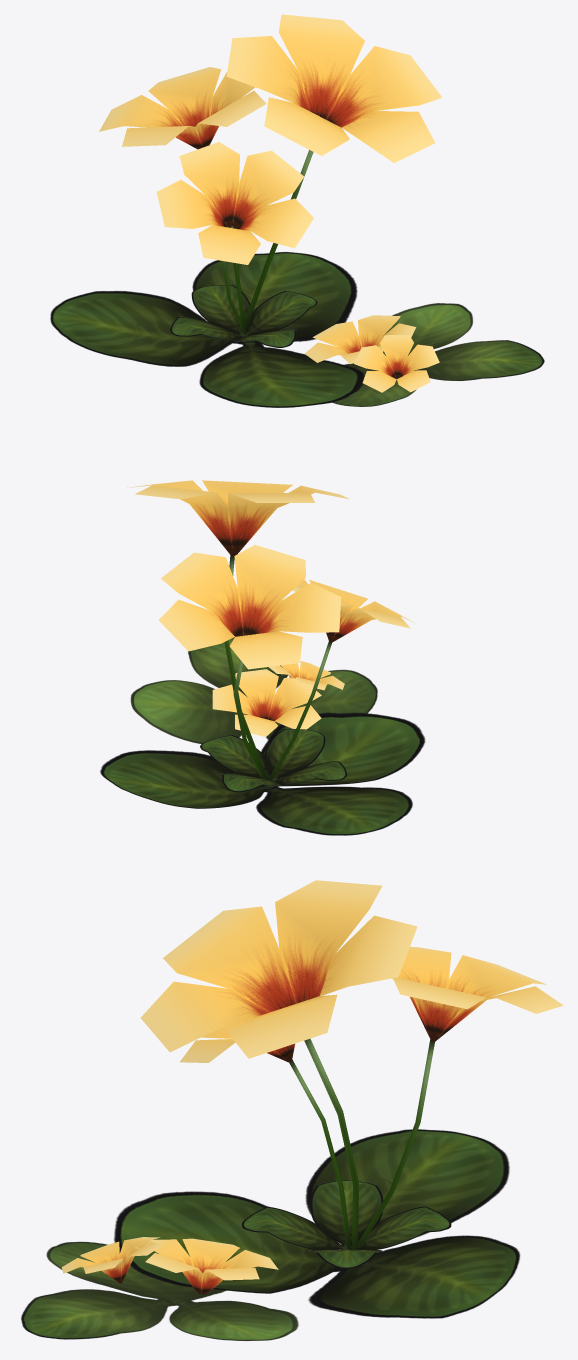
File: Flower8.glb
The picture shows the model from 3 angles, top to bottom: view 1: azimuth 30°, elevation 25°; view 2: azimuth 150°, elevation 25°; view 3: azimuth 270°, elevation 25°; orthographic projection. The views are drawn at different scales.
Parts seen in each view (by area): view 1: Yellow Flower Patch_Flowers_0; view 2: Yellow Flower Patch_Flowers_0; view 3: Yellow Flower Patch_Flowers_0.
Boxes of the visible parts, x1=… form: Yellow Flower Patch_Flowers_0: x1=50, y1=14, x2=544, y2=407; Yellow Flower Patch_Flowers_0: x1=100, y1=480, x2=425, y2=835; Yellow Flower Patch_Flowers_0: x1=21, y1=880, x2=563, y2=1340.
Size of the model in its own units: 0.1823 by 0.1521 by 0.1957.
Materials: 1 (1 with a texture image).
